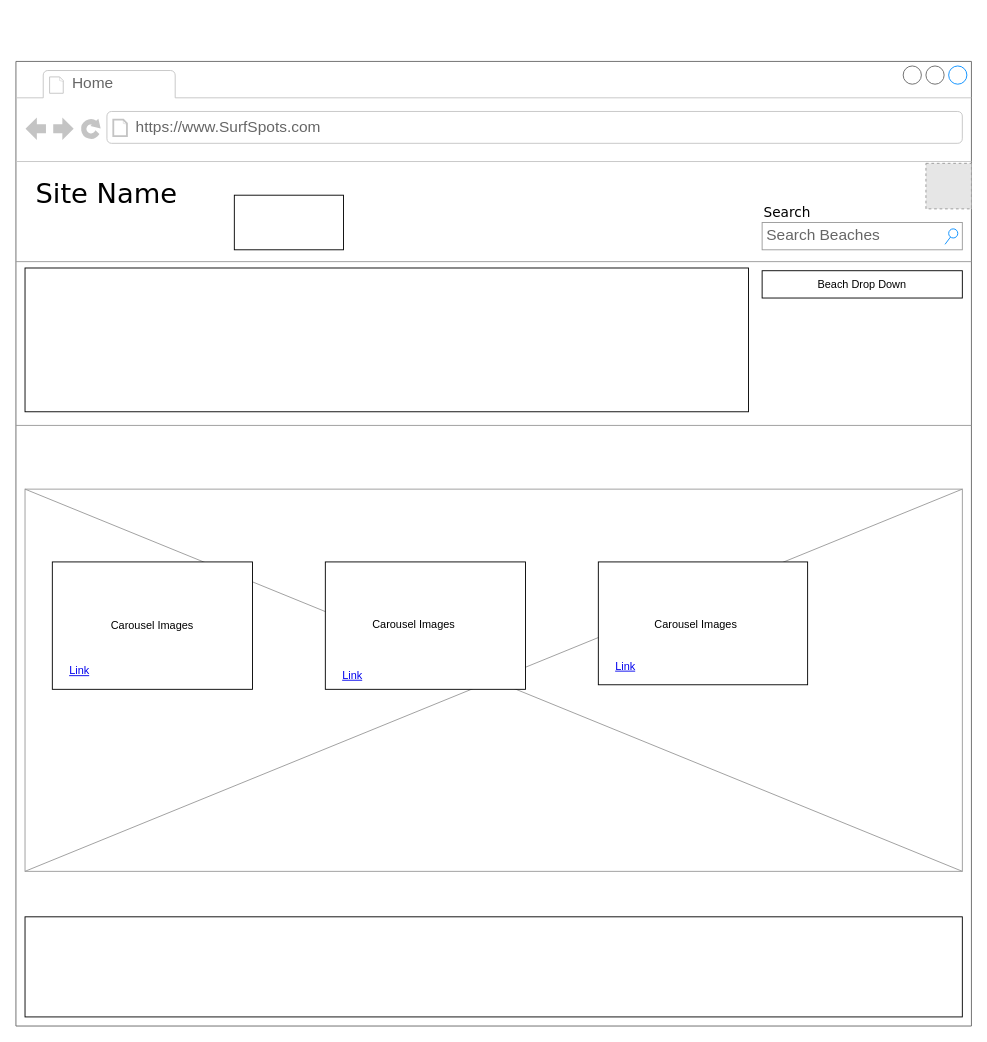
This 987x1042 diagram has some shape labels left out. Grey dashed boxes stand in for pictures. Each missing label, with the box of its shape:
Contact Us Footer...: (24, 916, 962, 1017)
We can also have an image/icon to add here to go along with the site name.: (233, 194, 344, 250)
